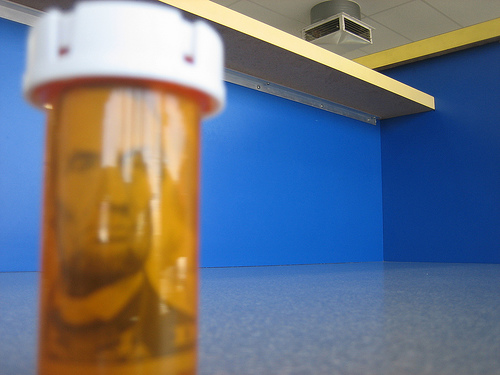pill bottle: (19, 2, 227, 375)
